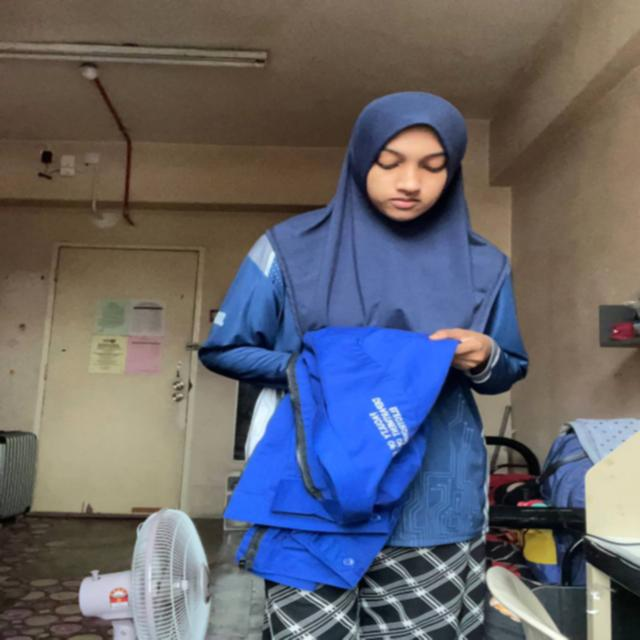person_without_labcoat: (200, 92, 528, 640)
